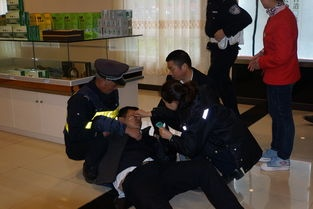falling: (100, 98, 248, 209)
